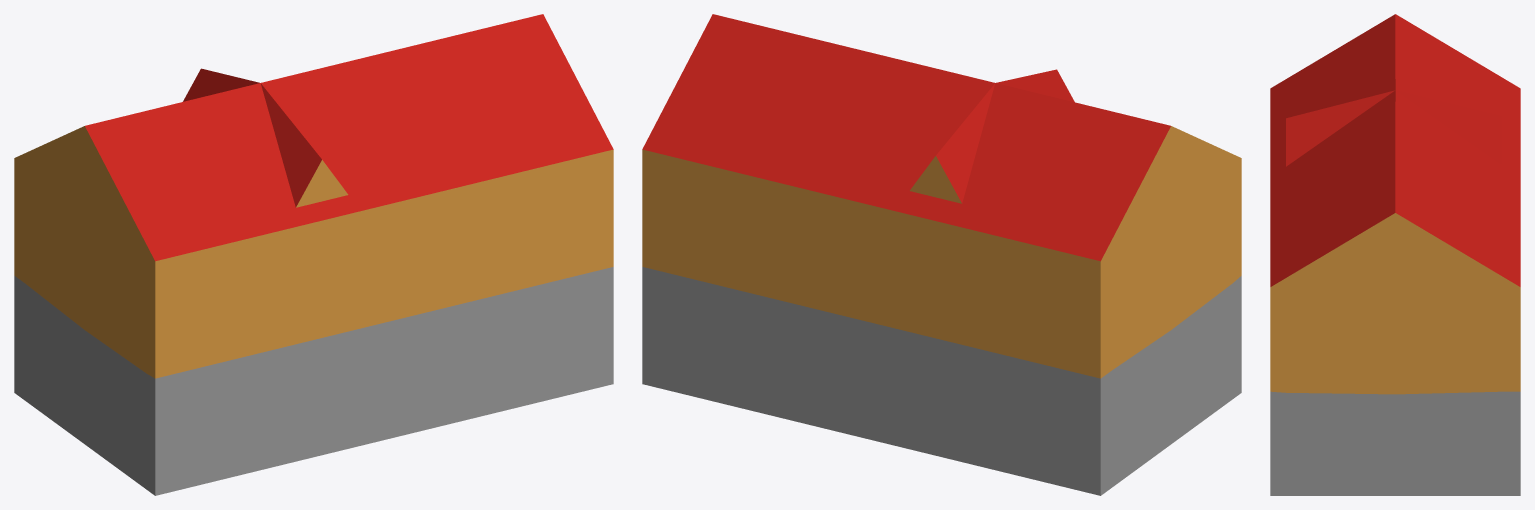
File: Fantasy_House_Inn_LOD1.fbx
3 renders of one model, left to right at view 1: azimuth 30°, elevation 25°; view 2: azimuth 150°, elevation 25°; view 3: azimuth 270°, elevation 25°, orthographic. The views are drawn at different scales.
Parts seen in each view (by area): view 1: Cube; view 2: Cube; view 3: Cube.
Boxes of the visible parts, <box> form: Cube: <box>14,14,613,495</box>; Cube: <box>642,14,1241,495</box>; Cube: <box>1270,14,1520,495</box>.
Size of the model in its own units: 293 by 156 by 195.
